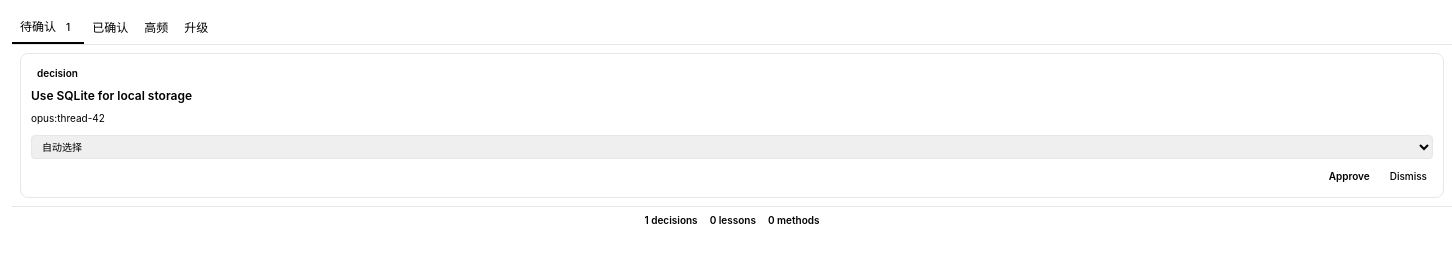
Scenario: KnowledgeFeed — Collection selector (AC-D1) › shows inline error when non-visibility-widening 400 is returned (P1-2 error handling)
Click the button "Approve": (1349, 176) top-left (1321, 164), bottom-right (1378, 186)
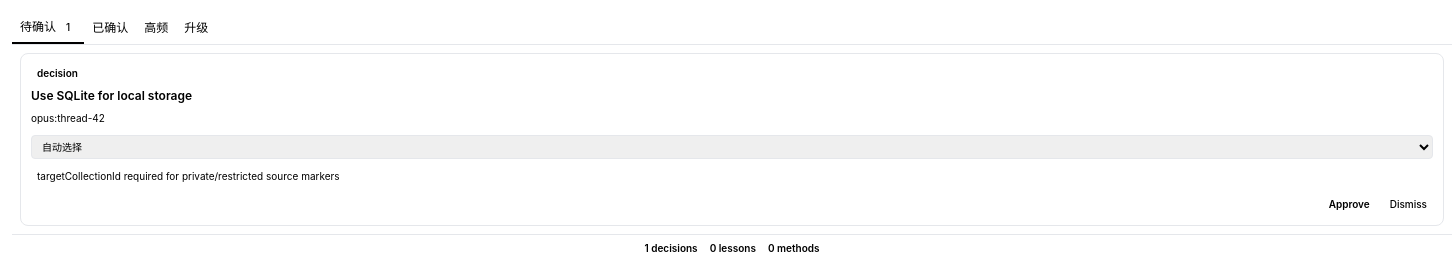
Now the text "targetCollectionId required" is shown, box top-left (37, 170), bottom-right (340, 182)
